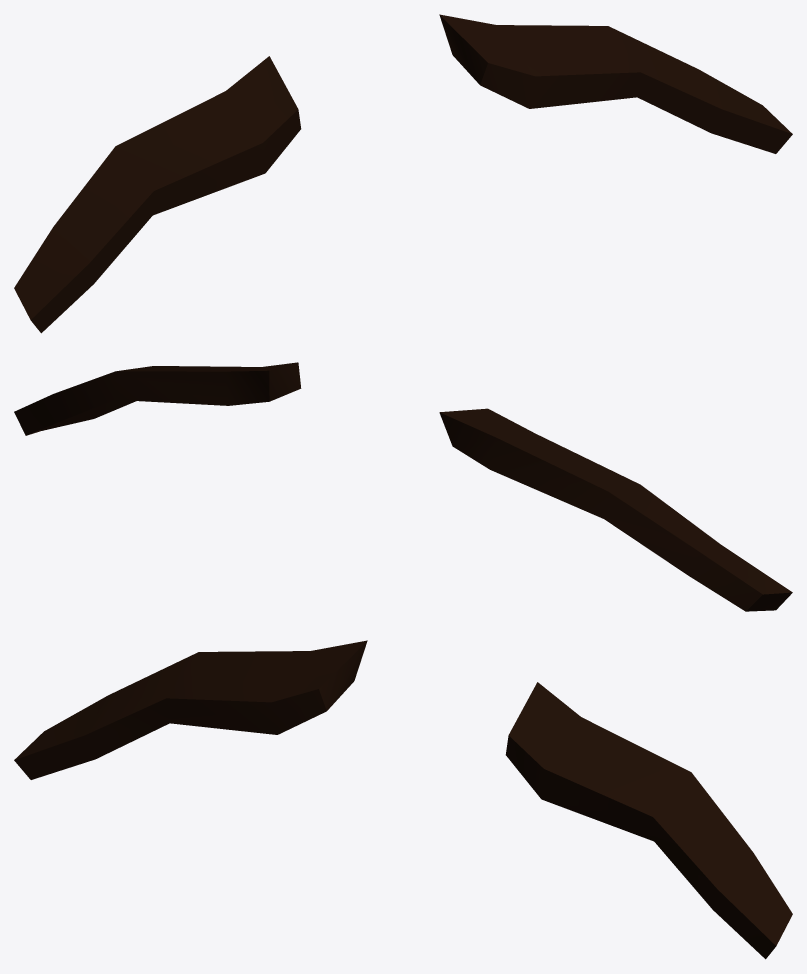
The model's file is Brow 09.FBX.
3 renders of one model, top to bottom at view 1: azimuth 30°, elevation 25°; view 2: azimuth 150°, elevation 25°; view 3: azimuth 330°, elevation 25°, orthographic.
Visible parts, largest first — view 1: Brow 09; view 2: Brow 09; view 3: Brow 09.
Boxes of the visible parts, x1,y1,x2,y2 form: Brow 09: (14,14,792,333); Brow 09: (14,362,792,611); Brow 09: (14,640,792,959).
Bounding box in the file's own units: 21.97 × 2.87 × 4.65.
